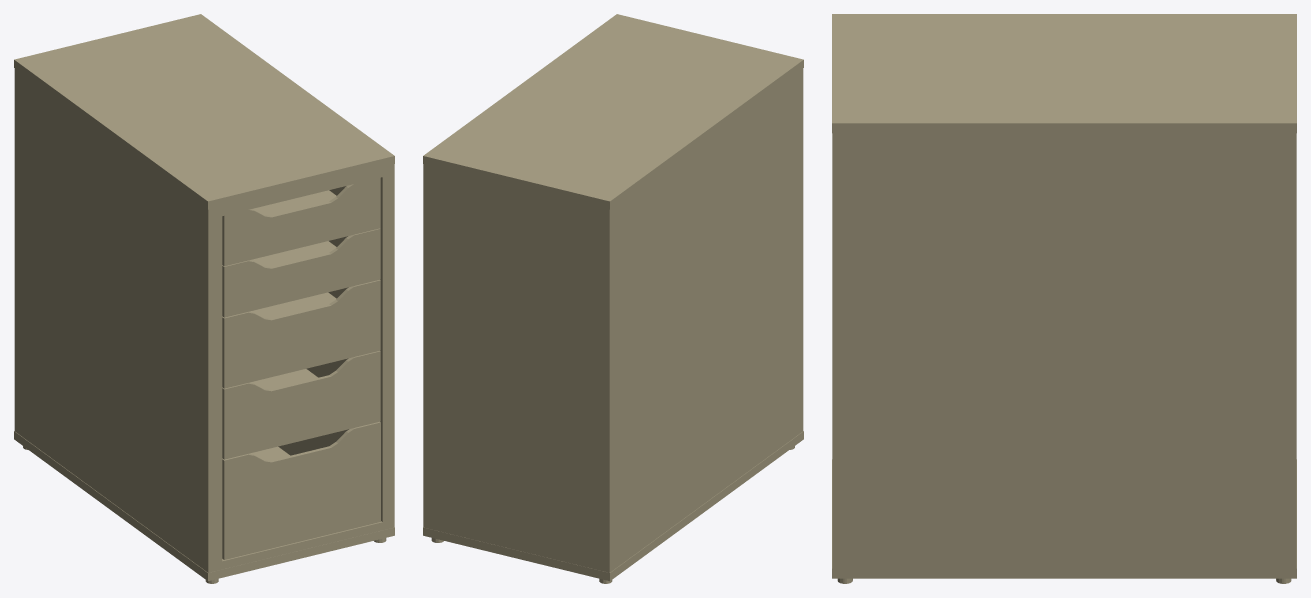
Rendered from ALEX.glb.
3 renders of one model, left to right at view 1: azimuth 30°, elevation 25°; view 2: azimuth 150°, elevation 25°; view 3: azimuth 270°, elevation 25°, orthographic. The views are drawn at different scales.
Visible parts, largest first — view 1: ALEX; view 2: ALEX; view 3: ALEX.
Boxes of the visible parts, box(x1,y1,x2,y2) form: ALEX: box(14, 14, 394, 583); ALEX: box(423, 14, 803, 583); ALEX: box(832, 14, 1296, 583).
Size of the model in its own units: 10.03 by 19.8 by 18.02.
Materials: 1 (1 with a texture image).
